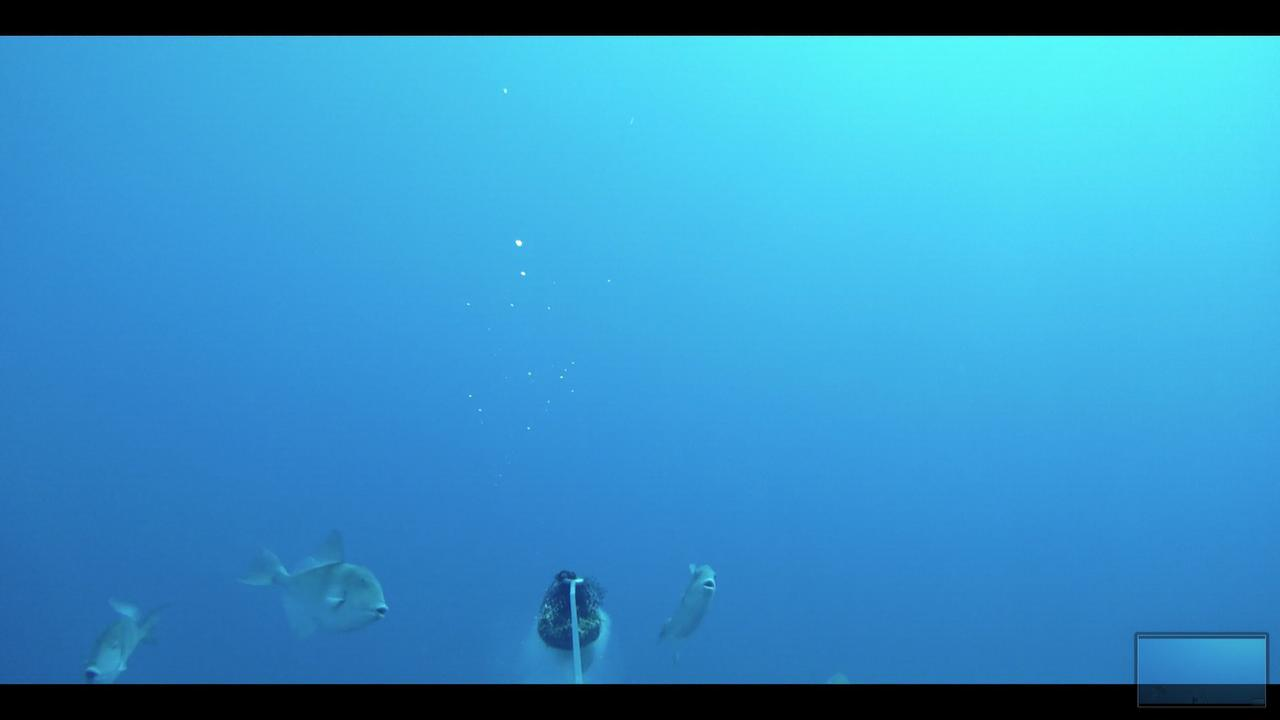balistes: (225, 529, 392, 639), (77, 593, 181, 681), (642, 556, 720, 648)
